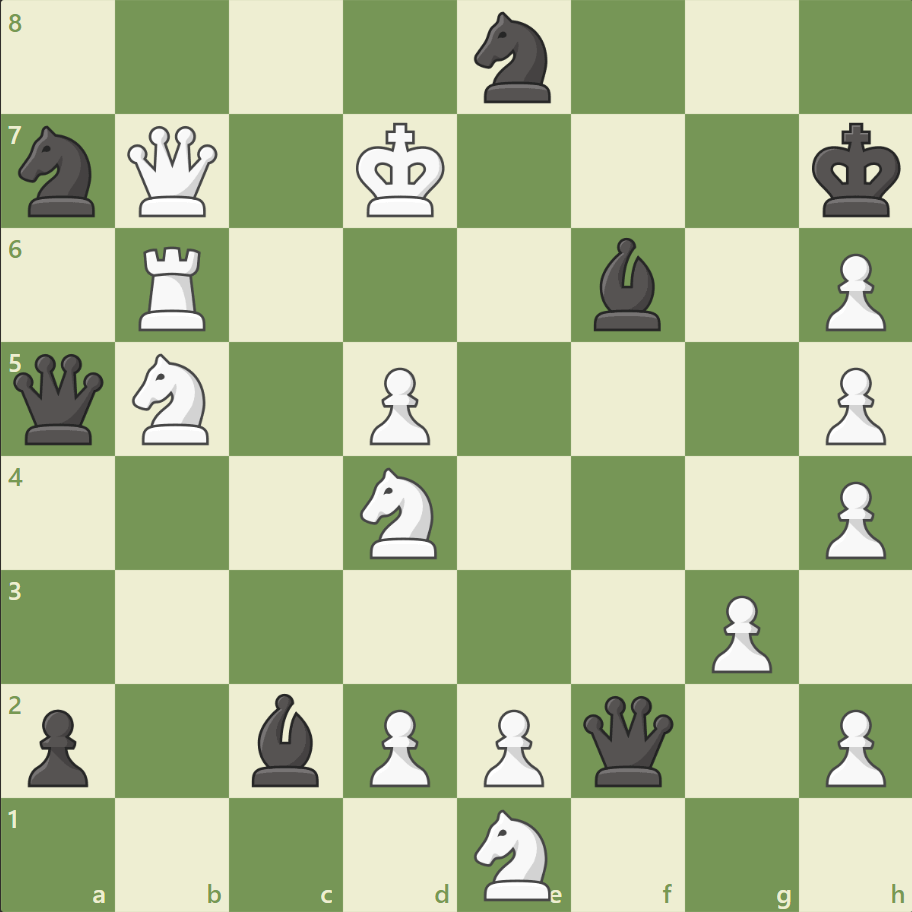K: (351, 117, 451, 225)
N: (351, 461, 449, 564), (124, 348, 222, 450), (465, 802, 562, 904)
P: (701, 586, 776, 677), (474, 700, 549, 791), (815, 246, 889, 337), (361, 359, 435, 450), (815, 359, 889, 450), (815, 473, 889, 564), (361, 700, 435, 791), (815, 700, 889, 791)
Q: (124, 122, 223, 222)
R: (133, 239, 215, 336)
b: (585, 233, 669, 336), (244, 687, 328, 790)
k: (806, 117, 906, 225)
n: (465, 7, 562, 110), (11, 121, 108, 223)
p: (20, 700, 95, 791)
q: (10, 349, 109, 449), (578, 690, 677, 789)
